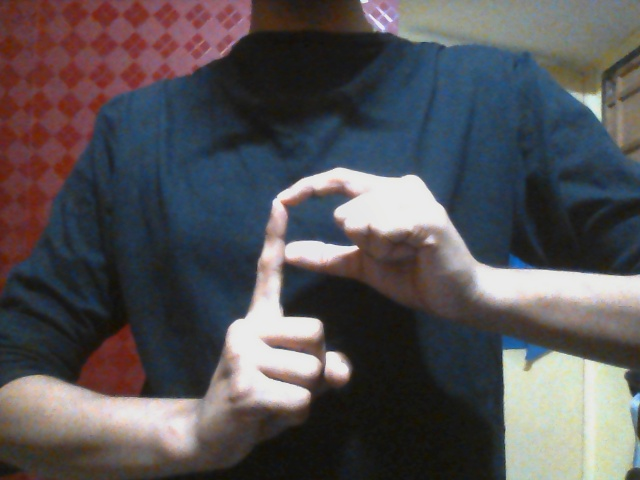P: (209, 158, 444, 429)
